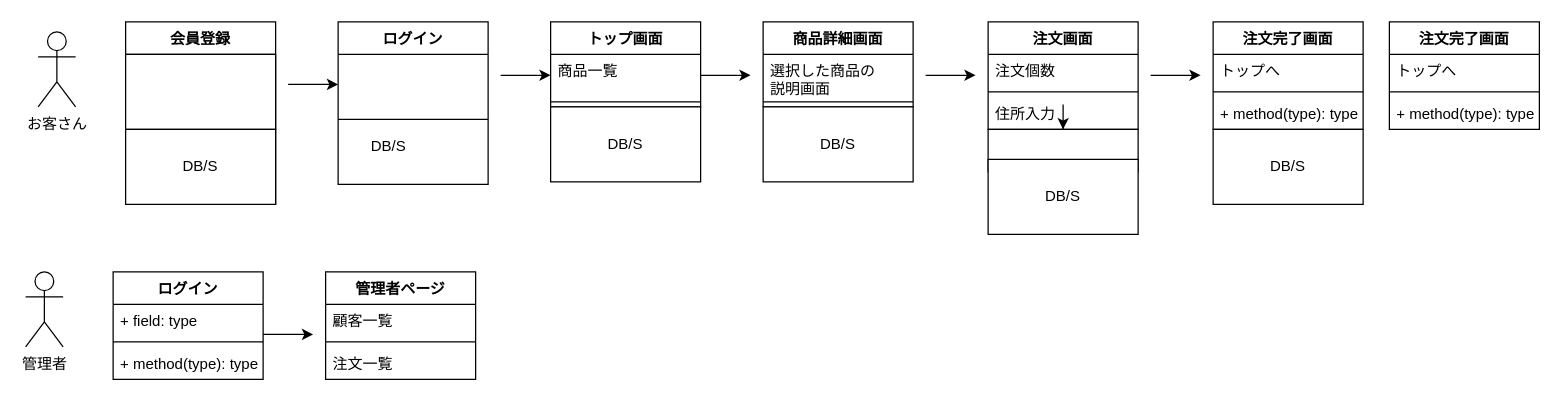
This 1561x405 diagram has some shape labels left out. The shapes that lost their labels are listed below. From the top down, each one's centre as x and y in pixels, then its label:
At point (200, 91): "ユーザー パスワード".
At point (1062, 150): "決済".
